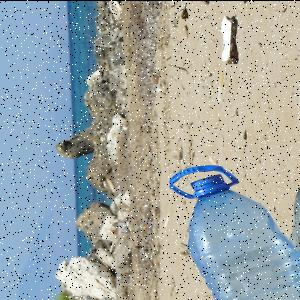Plastic-bottle: (190, 173, 300, 300)
